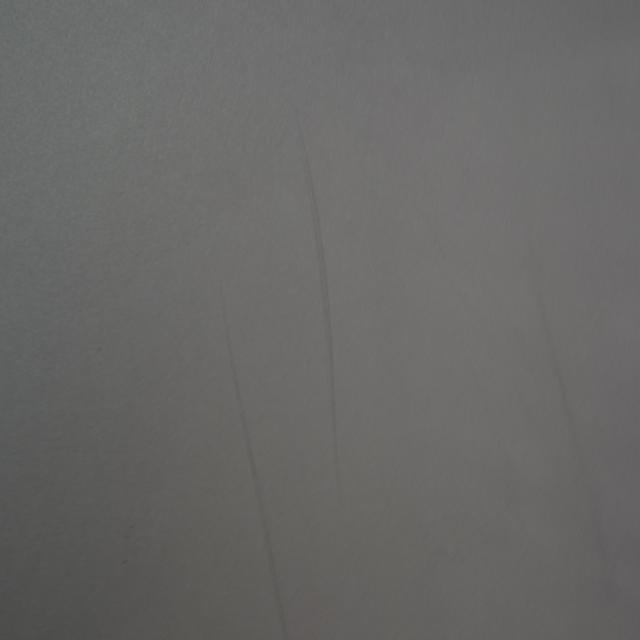scratch: (219, 284, 285, 640), (289, 104, 346, 512), (533, 285, 609, 586)
